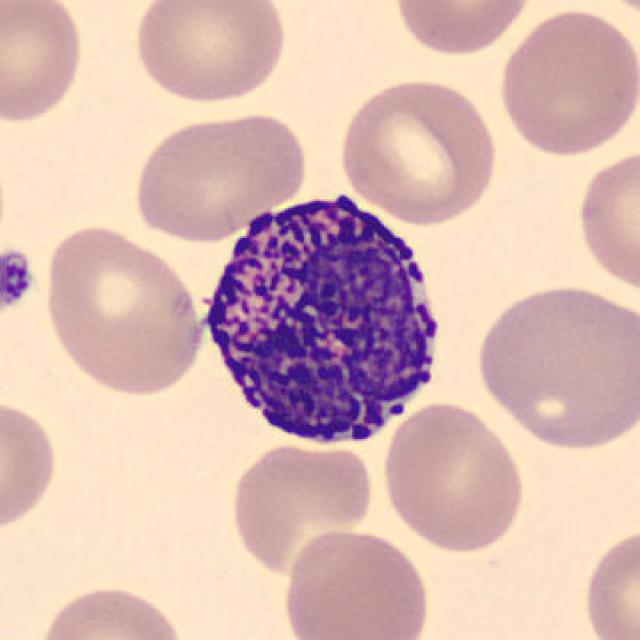Basophil: (186, 178, 458, 460)
Platelets: (0, 245, 37, 315)
RBC: (39, 219, 206, 400), (470, 279, 638, 453), (334, 74, 502, 227), (128, 108, 313, 244), (379, 398, 528, 556), (494, 5, 638, 159), (226, 438, 375, 578), (277, 525, 434, 640), (128, 0, 292, 106), (0, 0, 89, 127), (572, 143, 638, 296), (34, 580, 188, 640), (0, 393, 62, 538), (389, 0, 539, 58), (580, 522, 638, 640), (581, 0, 639, 19)
